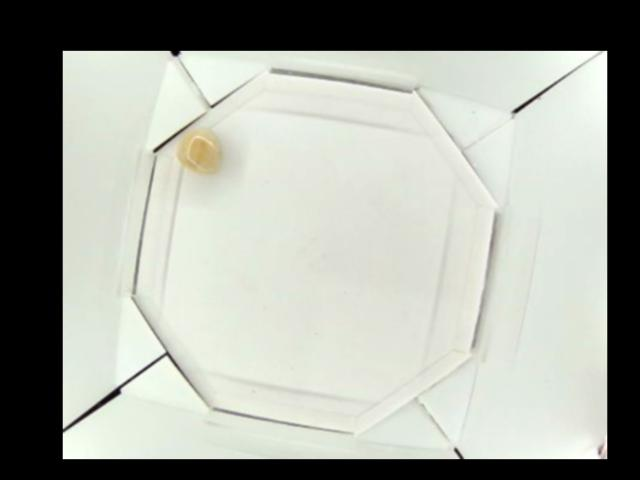Pebble: (174, 129, 224, 175)
